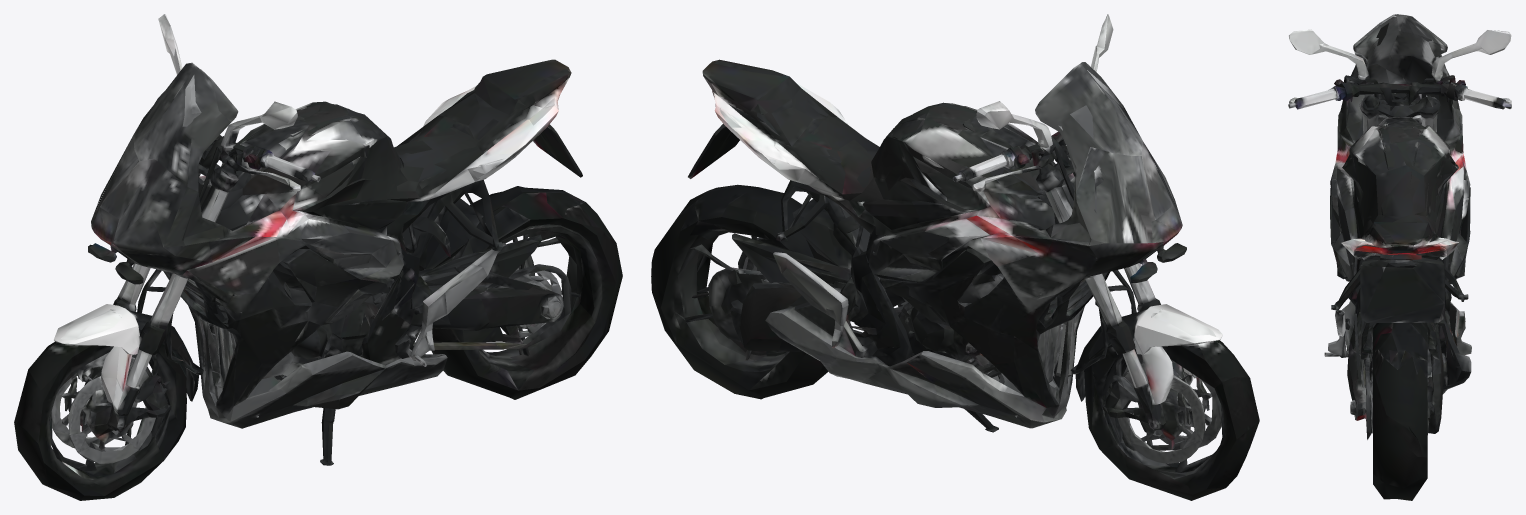
File: mx_veh_police_bike.glb
3 views of the same model, side by side, from view 1: azimuth 30°, elevation 25°; view 2: azimuth 150°, elevation 25°; view 3: azimuth 270°, elevation 25° (orthographic). The views are drawn at different scales.
Bounding box in the file's own units: 1.89 × 1.24 × 0.7266.
Materials: 1 (1 with a texture image).
